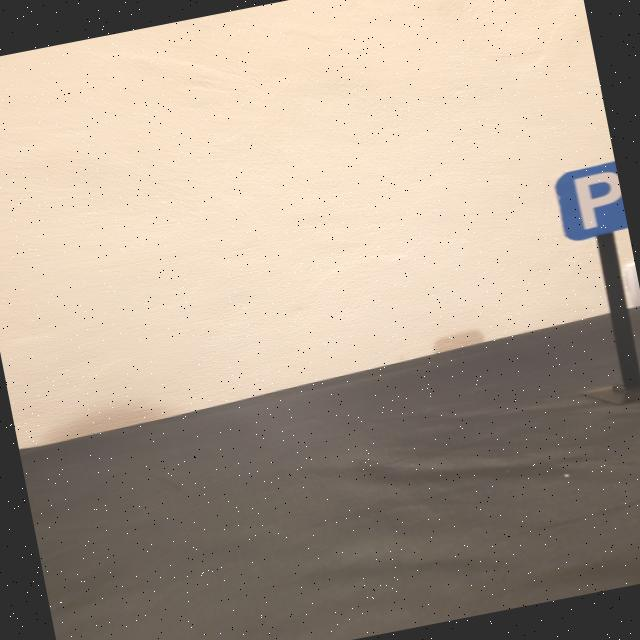parking: (550, 161, 628, 244)
